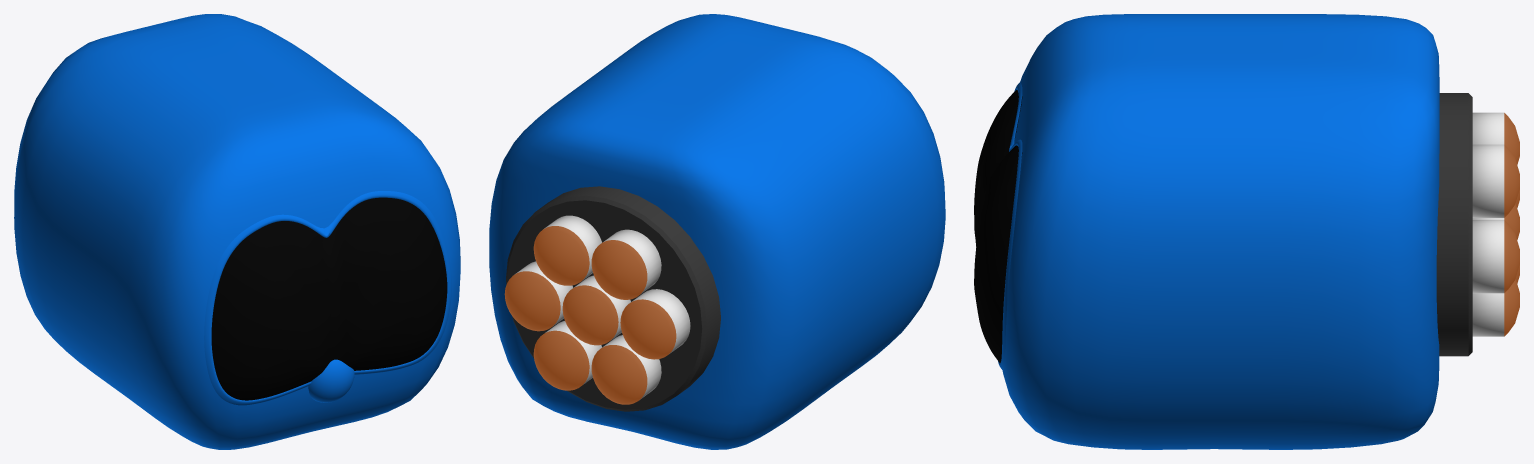
Rendered from ShipExterior.fbx.
3 views of the same model, side by side, from view 1: azimuth 30°, elevation 25°; view 2: azimuth 150°, elevation 25°; view 3: azimuth 270°, elevation 25° (orthographic). The views are drawn at different scales.
Parts seen in each view (by area): view 1: ShipExterior, ShipExteriorWindshield, ShipExteriorWindshieldOutline, ShipGuide; view 2: ShipExterior, EngineHousing, Engine.001, Engine.003, Engine.005, Engine.006, Engine, Engine.002, Engine.004; view 3: ShipExterior, EngineHousing, ShipExteriorWindshield, Engine.002, Engine.005, Engine.004, Engine.003, ShipExteriorWindshieldOutline.
Part boxes in pixels (x1,y1,x2,y2): ShipExterior: [14, 14, 460, 449]; ShipExteriorWindshield: [211, 197, 447, 400]; ShipExteriorWindshieldOutline: [204, 191, 451, 405]; ShipGuide: [308, 359, 354, 402]; ShipExterior: [489, 14, 945, 449]; EngineHousing: [506, 186, 720, 411]; Engine.001: [620, 289, 690, 359]; Engine.003: [591, 229, 661, 299]; Engine.005: [533, 215, 601, 285]; Engine.006: [591, 335, 661, 404]; Engine: [562, 275, 630, 345]; Engine.002: [504, 261, 572, 331]; Engine.004: [533, 321, 601, 390]; ShipExterior: [1002, 14, 1439, 449]; EngineHousing: [1436, 93, 1472, 356]; ShipExteriorWindshield: [974, 89, 1022, 362]; Engine.002: [1472, 220, 1519, 293]; Engine.005: [1472, 144, 1519, 217]; Engine.004: [1472, 279, 1519, 336]; Engine.003: [1472, 112, 1519, 164]; ShipExteriorWindshieldOutline: [998, 82, 1022, 370].
Size of the model in its own units: 317 by 300 by 415.
